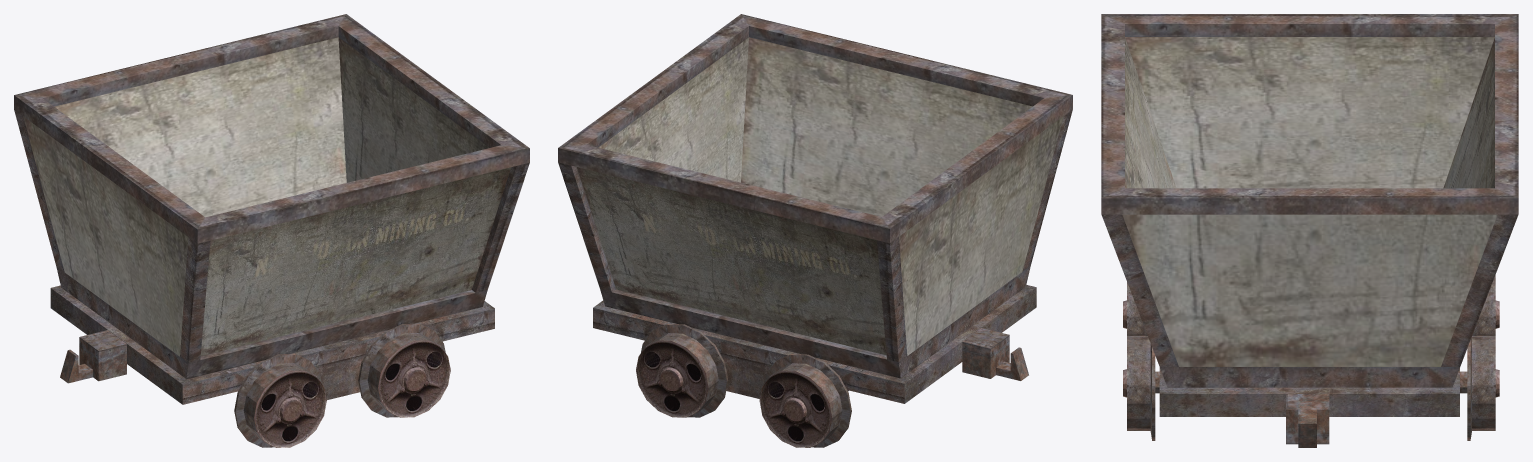
File: svgoldcart1.dae
3 renders of one model, left to right at view 1: azimuth 30°, elevation 25°; view 2: azimuth 150°, elevation 25°; view 3: azimuth 270°, elevation 25°, orthographic. The views are drawn at different scales.
Parts seen in each view (by area): view 1: unnamed_object55_sep126-0; view 2: unnamed_object55_sep126-0; view 3: unnamed_object55_sep126-0.
Part boxes in pixels (left/top/right/bottom): unnamed_object55_sep126-0: left=14, top=14, right=529, bottom=447; unnamed_object55_sep126-0: left=558, top=14, right=1072, bottom=447; unnamed_object55_sep126-0: left=1101, top=14, right=1518, bottom=447.
Bounding box in the file's own units: 345 × 204 × 262.
